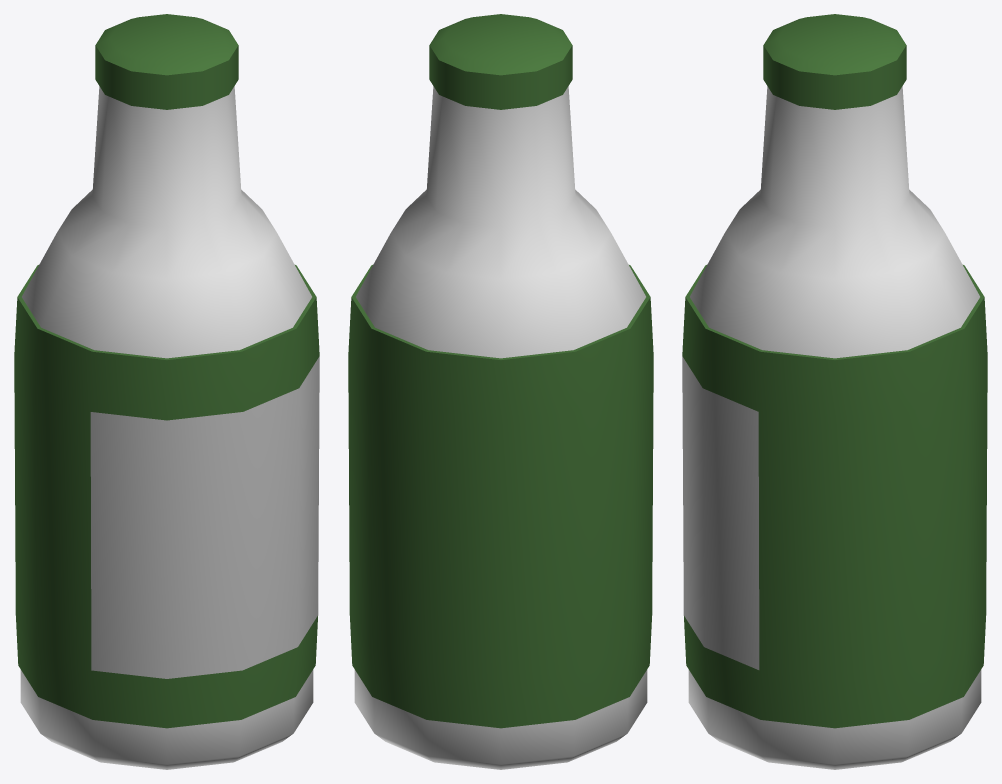
Rendered from Soda_02.fbx.
3 renders of one model, left to right at view 1: azimuth 30°, elevation 25°; view 2: azimuth 150°, elevation 25°; view 3: azimuth 270°, elevation 25°, orthographic.
Visible parts, largest first — view 1: Soda_02; view 2: Soda_02; view 3: Soda_02.
Boxes of the visible parts, x1,y1,x2,y2 form: Soda_02: (14, 14, 319, 769); Soda_02: (348, 14, 653, 769); Soda_02: (682, 14, 987, 769).
Size of the model in its own units: 0.1124 by 0.2743 by 0.1124.
